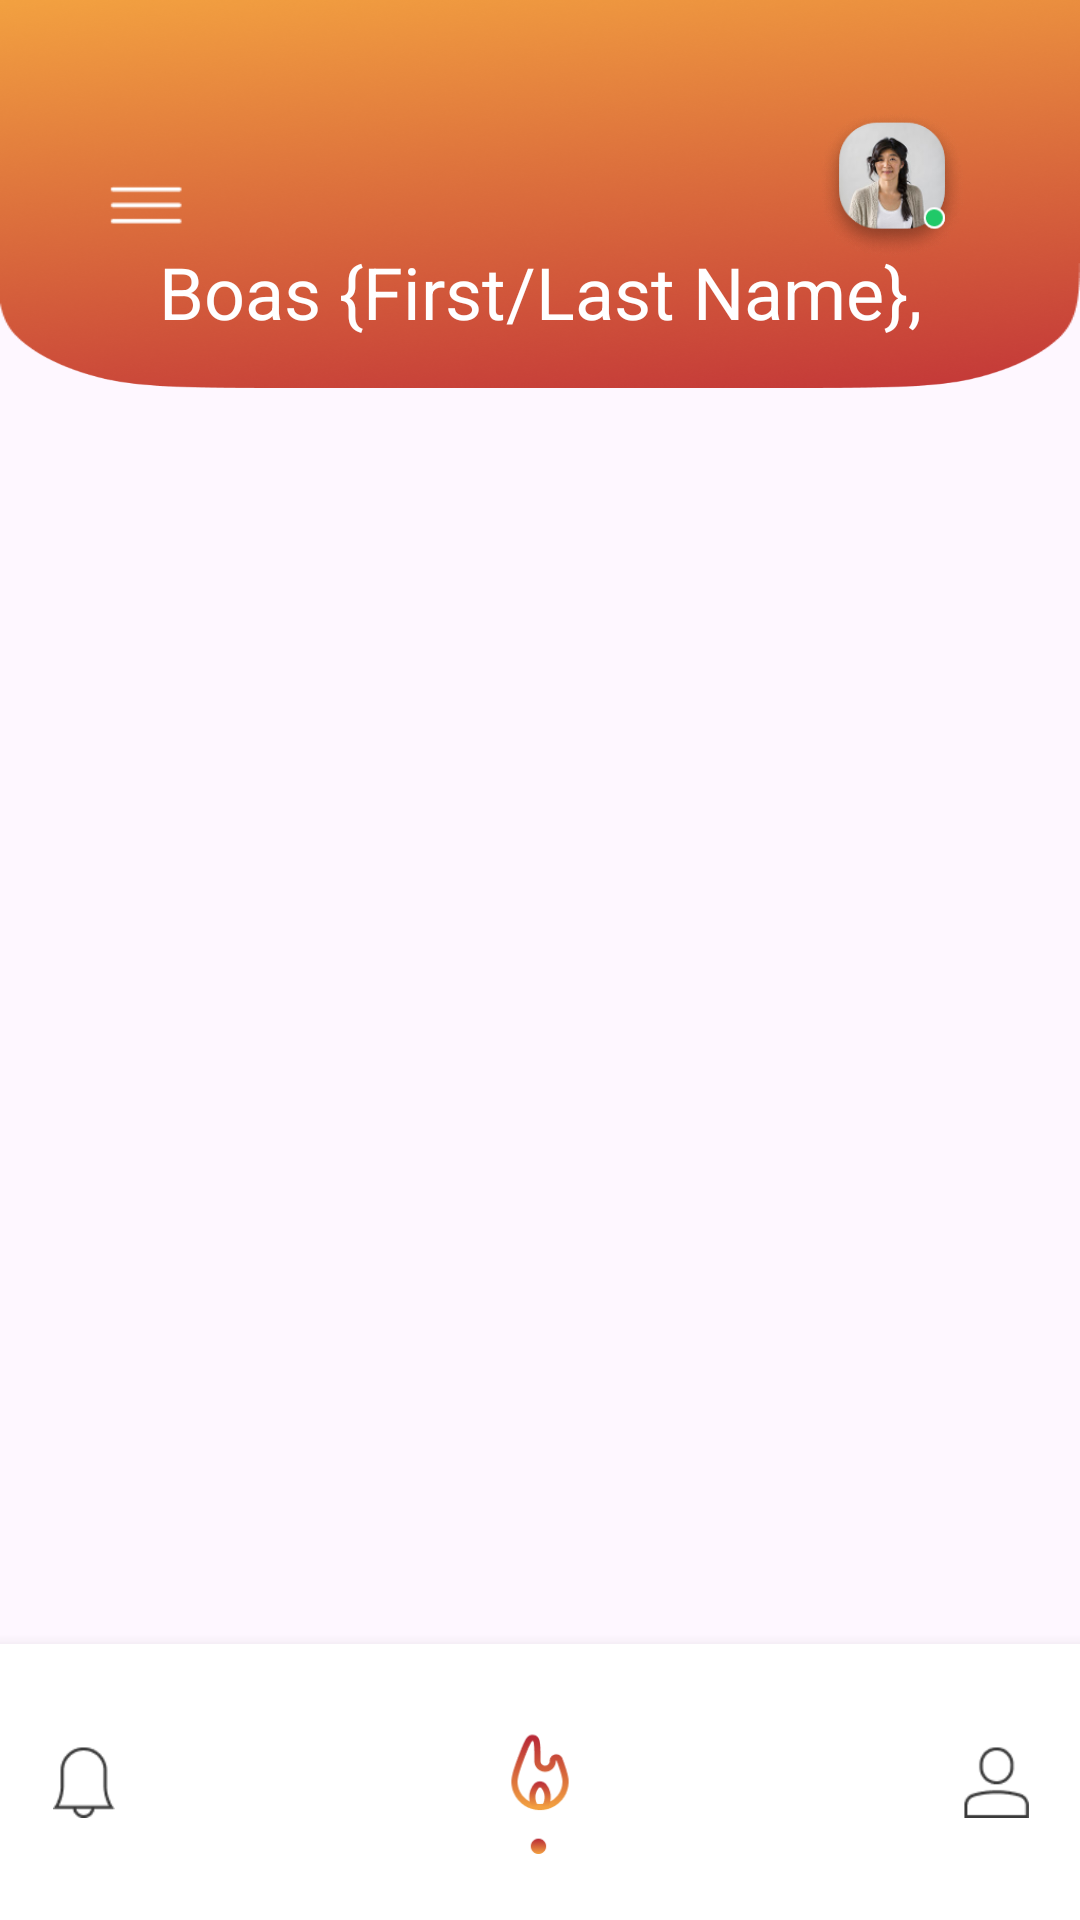

Named icons in this screenshot (1080px x 1920px) and their centers, [x,y]:
fire: [540,1794]
menu: [145,196]
notification: [84,1782]
profile: [891,183], [996,1782]
